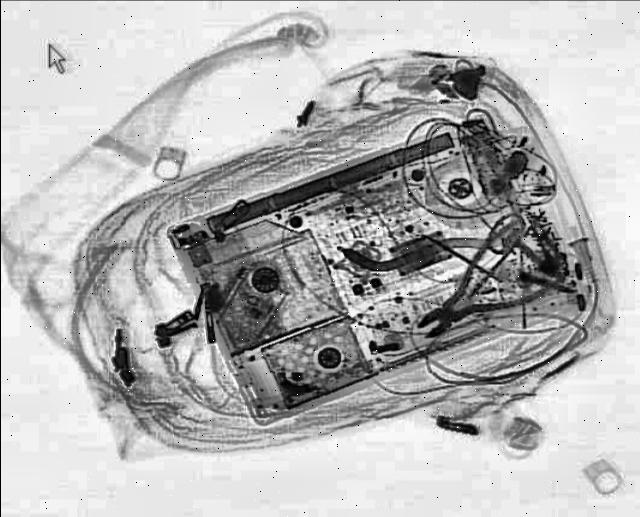Pliers: (385, 214, 581, 358)
